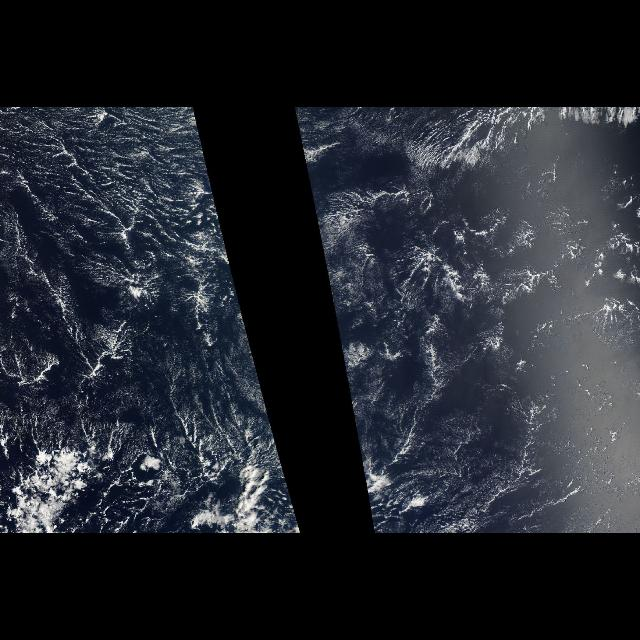Sugar: (295, 108, 635, 526), (2, 113, 280, 463)
